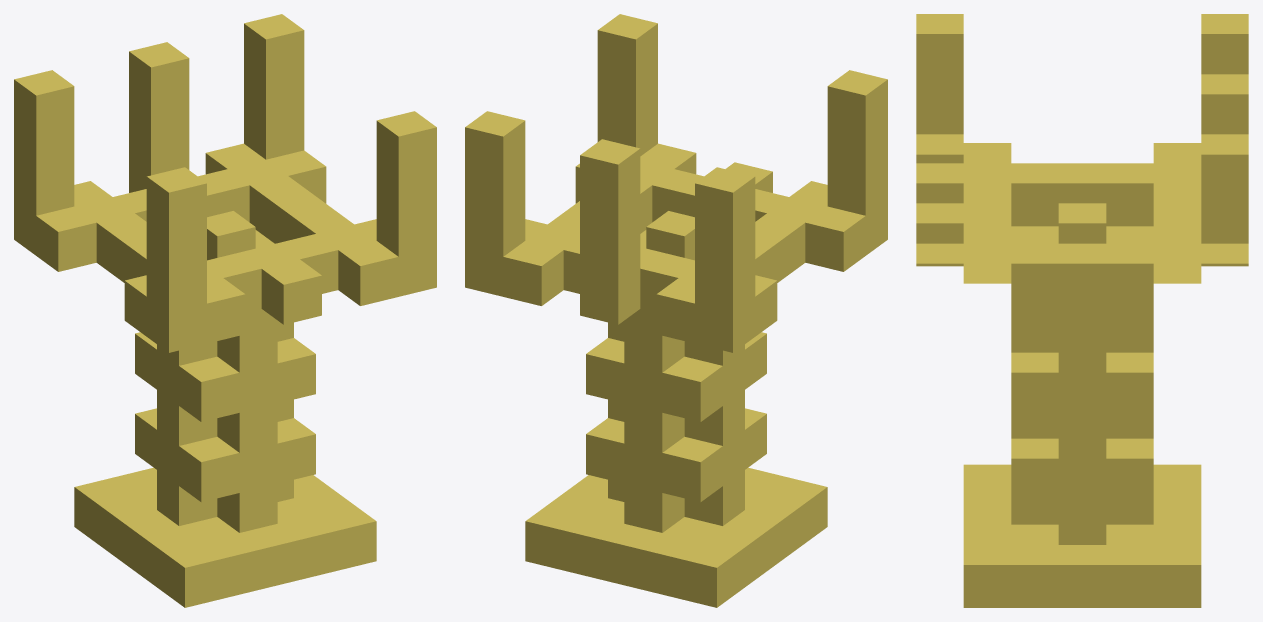
Rendered from king-b.glb.
3 renders of one model, left to right at view 1: azimuth 30°, elevation 25°; view 2: azimuth 150°, elevation 25°; view 3: azimuth 270°, elevation 25°, orthographic. The views are drawn at different scales.
Parts seen in each view (by area): view 1: root; view 2: root; view 3: root.
Boxes of the visible parts, x1=… form: root: x1=14, y1=14, x2=436, y2=607; root: x1=465, y1=14, x2=887, y2=607; root: x1=916, y1=14, x2=1248, y2=607.
Size of the model in its own units: 1 by 1.57 by 1.
1 material, 1 textured.
